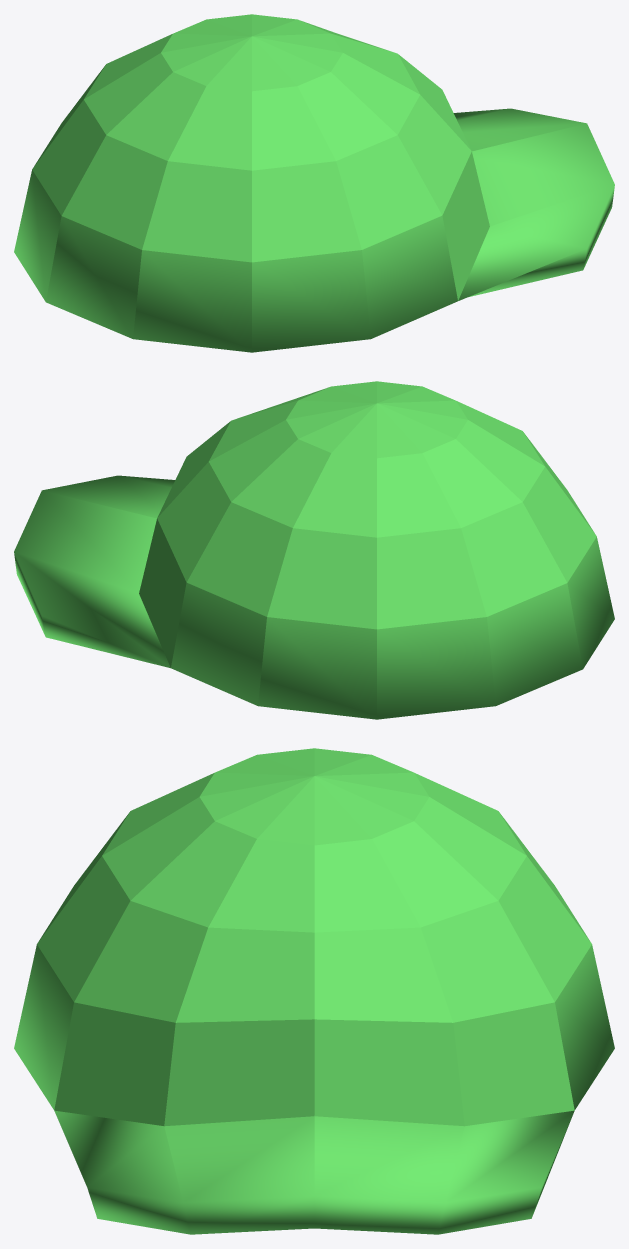
The model's file is Hat.fbx.
3 views of the same model, one above another, from view 1: azimuth 30°, elevation 25°; view 2: azimuth 150°, elevation 25°; view 3: azimuth 270°, elevation 25° (orthographic). The views are drawn at different scales.
Parts seen in each view (by area): view 1: Hat; view 2: Hat; view 3: Hat.
Boxes of the visible parts, left/top/right/bottom form: Hat: left=14, top=14, right=614, bottom=352; Hat: left=14, top=381, right=614, bottom=719; Hat: left=14, top=748, right=614, bottom=1234.
Bounding box in the file's own units: 31.71 × 12.92 × 24.14.
